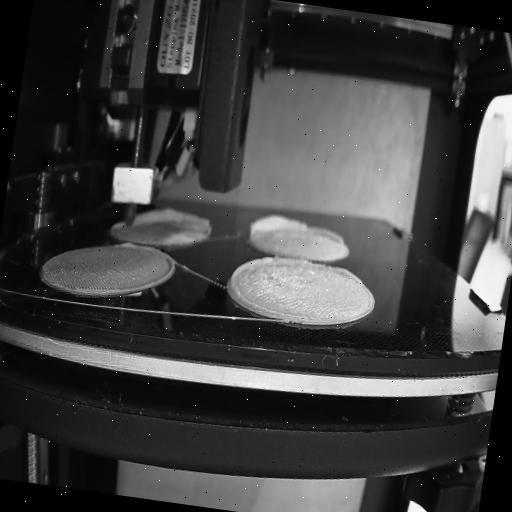over_extrusion: (226, 248, 318, 320), (132, 202, 218, 240), (246, 206, 311, 244), (310, 220, 347, 246), (332, 263, 366, 284), (118, 238, 140, 254), (112, 215, 126, 231)
